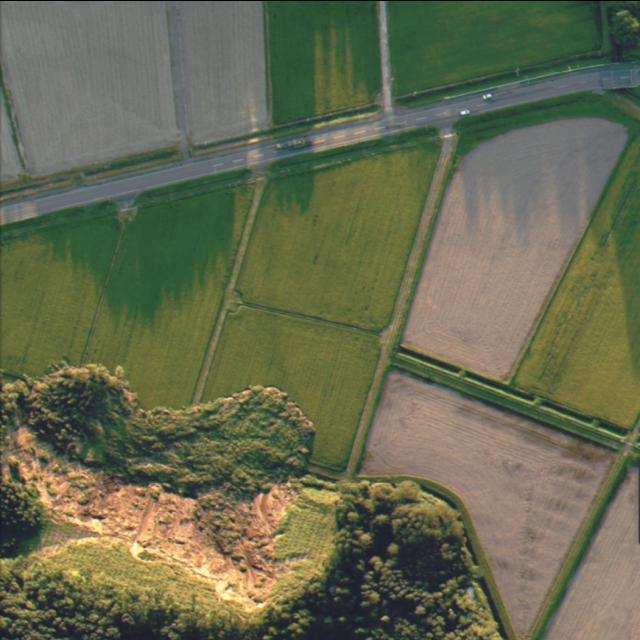landslide: (1, 365, 313, 608)
